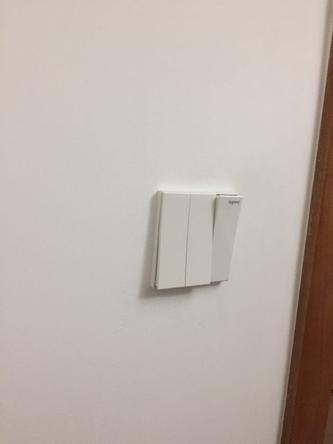switch: (213, 193, 234, 284), (163, 193, 183, 287), (191, 194, 208, 288)
